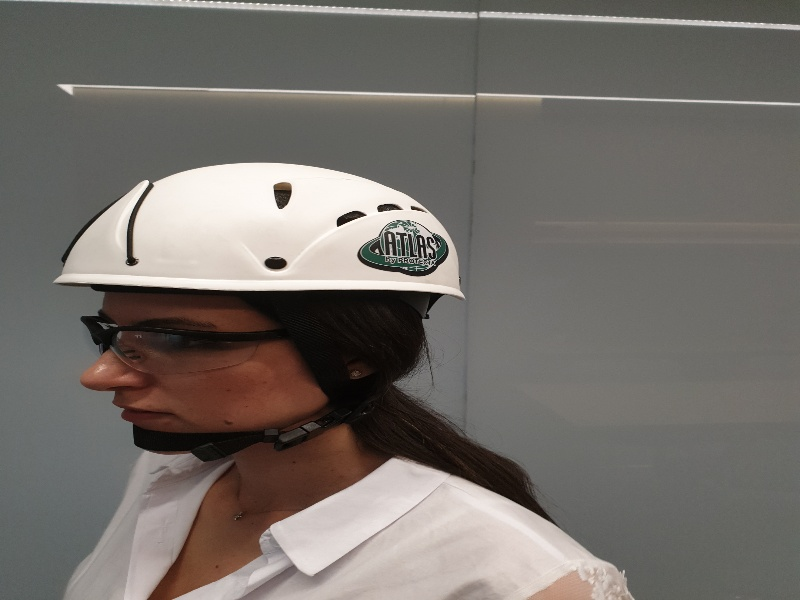Baret: (58, 163, 465, 301)
Gozluk: (78, 312, 307, 374)
